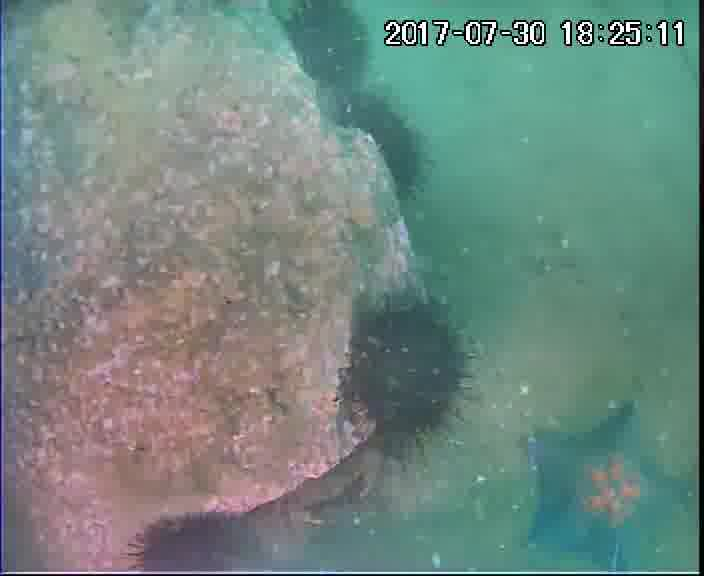echinus: (346, 300, 469, 446), (337, 93, 428, 202), (285, 1, 374, 90), (133, 509, 245, 576)
starfish: (519, 398, 700, 576)
